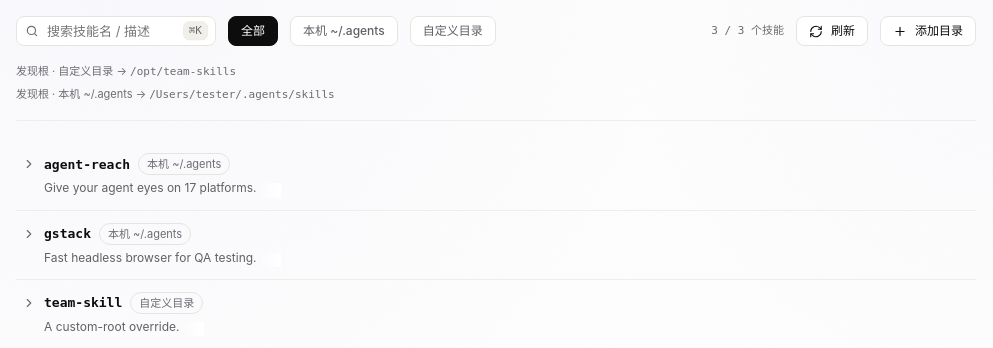
Scenario: SkillsView › filters by search query client-side
Expected: the text "gstack" is shown, left=44, top=223, right=91, bottom=244
In the search field labelled "搜索技能": (116, 31) left=16, top=16, right=216, bottom=46, type "browser"
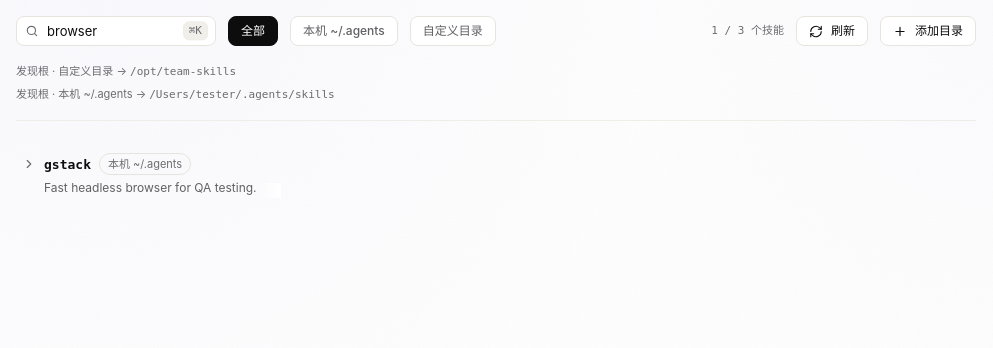
Expected: the text "gstack" is shown, left=44, top=154, right=91, bottom=175
Expected: the button "agent-reach" is gone
Expected: the text "1 / 3 个技能" is shown, left=711, top=22, right=784, bottom=40
